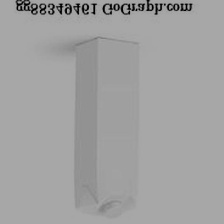carton: (66, 35, 147, 219)
